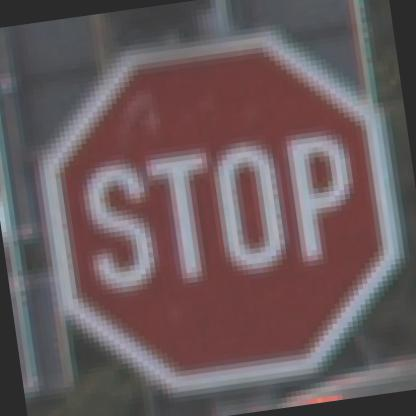stop: (17, 9, 415, 415)
